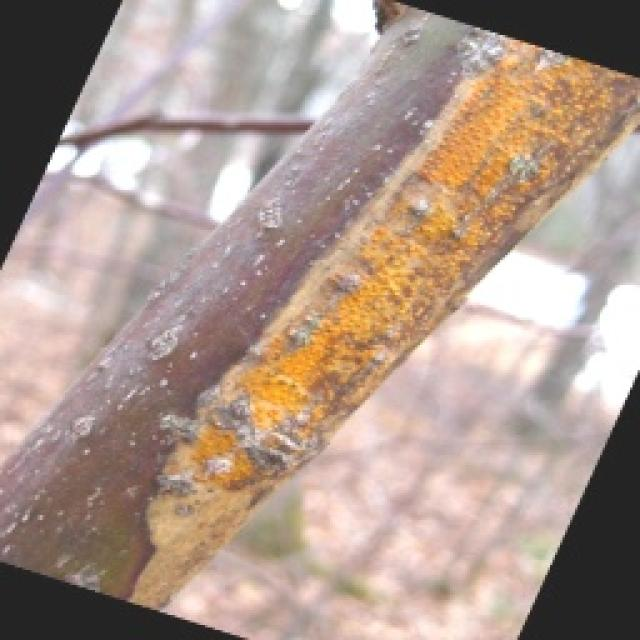Golden_canker: (122, 5, 638, 610)
